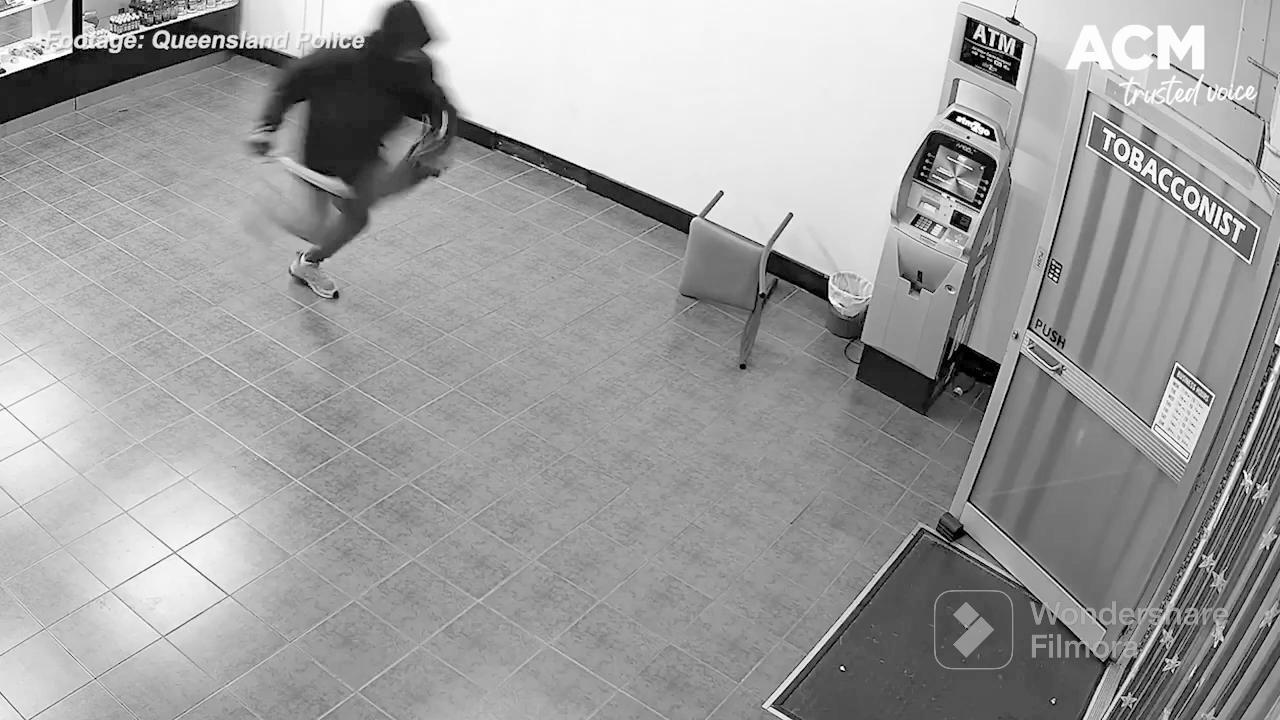melee: (248, 134, 357, 202)
